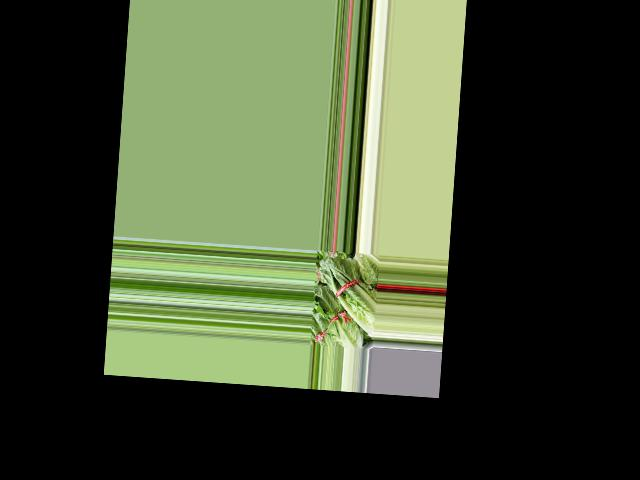lettuce: (314, 254, 380, 336)
